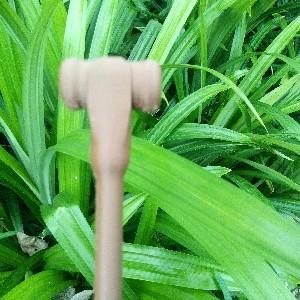palu: (57, 55, 163, 300)
